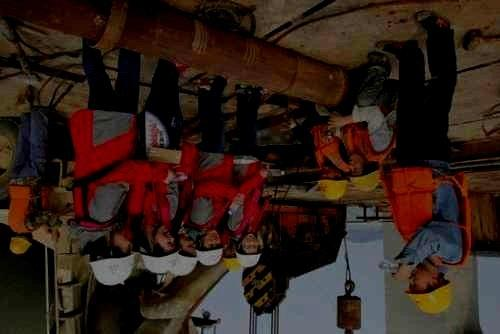helmet: (85, 230, 137, 286), (403, 262, 454, 315), (140, 224, 182, 274), (169, 235, 201, 276), (348, 153, 381, 192), (316, 162, 347, 200), (195, 228, 223, 266), (233, 233, 262, 268), (9, 231, 33, 254)
